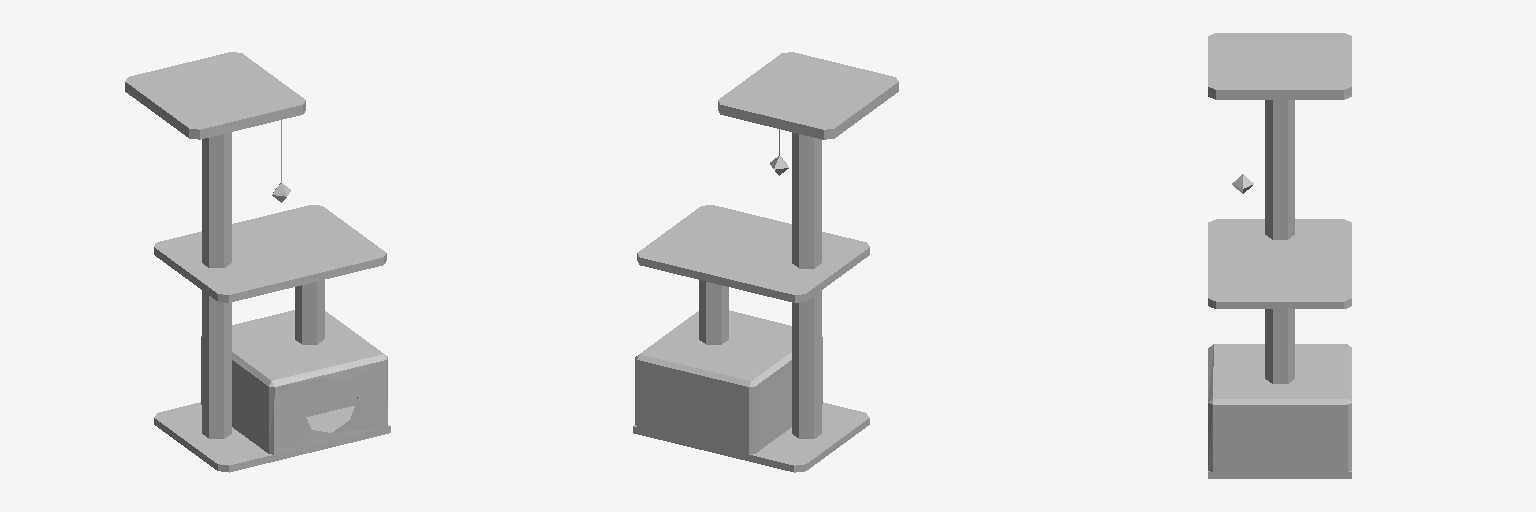
Rendered from scratching_post_001.obj.
3 renders of one model, left to right at view 1: azimuth 30°, elevation 25°; view 2: azimuth 150°, elevation 25°; view 3: azimuth 270°, elevation 25°, orthographic.
Visible parts, largest first — view 1: scratching_post_001; view 2: scratching_post_001; view 3: scratching_post_001.
Boxes of the visible parts, x1=… form: scratching_post_001: x1=125, y1=52, x2=390, y2=472; scratching_post_001: x1=633, y1=52, x2=898, y2=472; scratching_post_001: x1=1208, y1=33, x2=1351, y2=478.
Bounding box in the file's own units: 0.6987 × 1.18 × 0.4433.